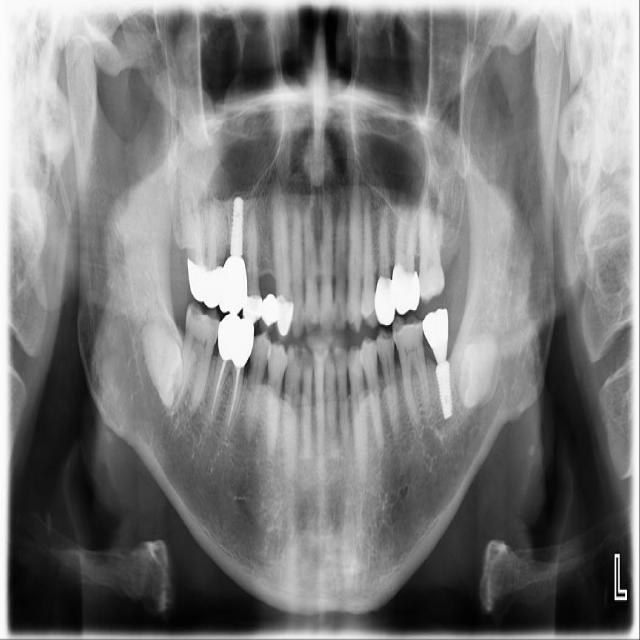3M ESPE Implant: (182, 193, 210, 303)
52: (235, 283, 301, 343), (213, 311, 258, 370), (187, 257, 224, 308), (389, 260, 421, 316), (421, 307, 450, 365), (219, 255, 247, 315), (374, 276, 396, 326)
73: (206, 352, 247, 429), (202, 187, 229, 271), (182, 193, 208, 272)
BioHorizons Implant: (416, 175, 445, 305)
Biomet 3i Implant: (452, 327, 500, 412)
Caries: (203, 188, 228, 309)
Implant: (165, 298, 226, 416)
Keystone Dental Implant: (138, 317, 190, 412)
